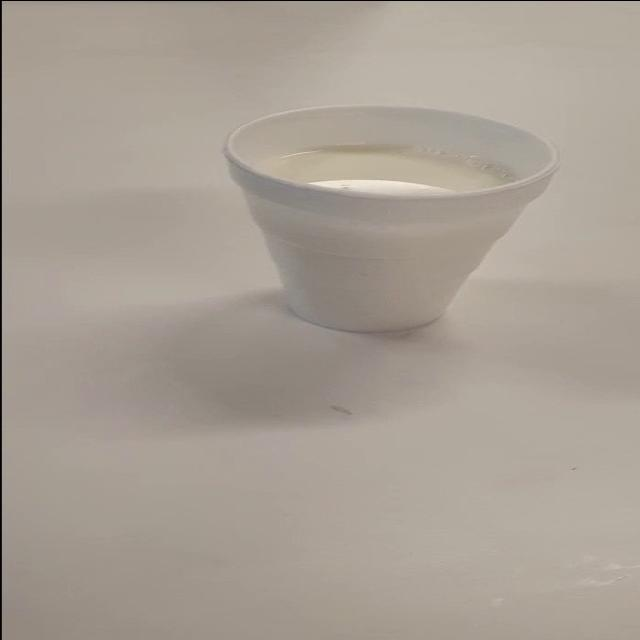Milk: (222, 96, 594, 343)
